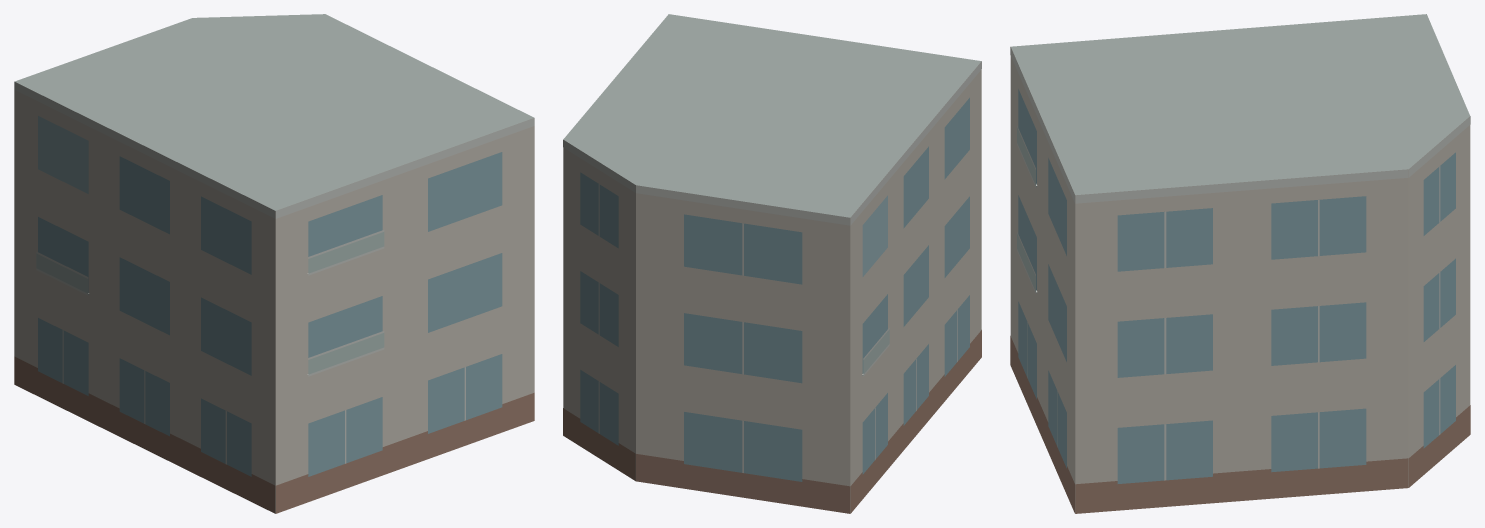
Rendered from survey-upis-32997770.glb.
3 renders of one model, left to right at view 1: azimuth 30°, elevation 25°; view 2: azimuth 150°, elevation 25°; view 3: azimuth 270°, elevation 25°, orthographic. The views are drawn at different scales.
Visible parts, largest first — view 1: survey-upis-32997770.tmp; view 2: survey-upis-32997770.tmp; view 3: survey-upis-32997770.tmp.
Part boxes in pixels (x1,y1,x2,y2): survey-upis-32997770.tmp: (14,14,534,513); survey-upis-32997770.tmp: (563,14,981,513); survey-upis-32997770.tmp: (1010,14,1470,513).
Bounding box in the file's own units: 11.17 × 9.15 × 11.98.
